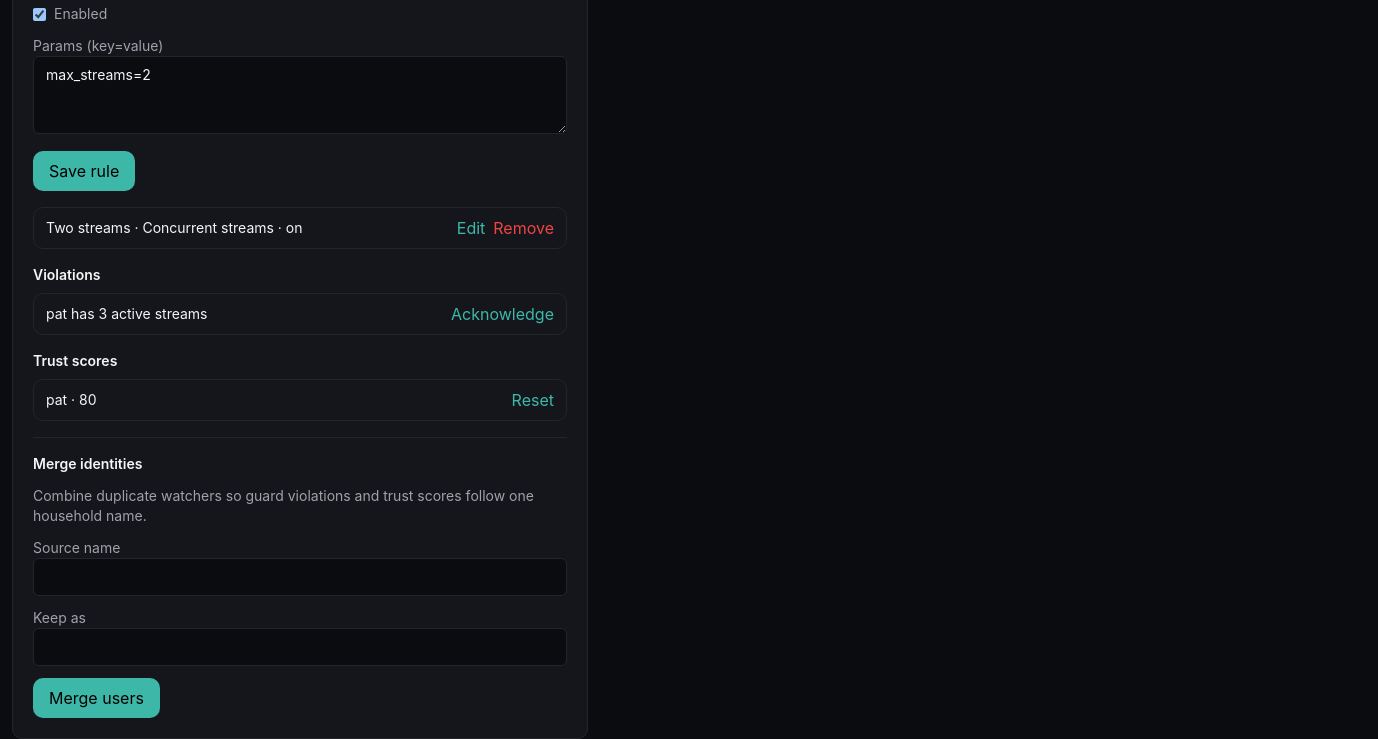
Test: Settings page › merges duplicate playback-guard identities
(page scrolled)
Check: the form with test id "guard-merge-form" is shown, box [33,437,567,718]
Type "pat-tv" into the field named "Guard merge source".
click(300, 577); type("pat-tv")  # box [33,558,567,596]
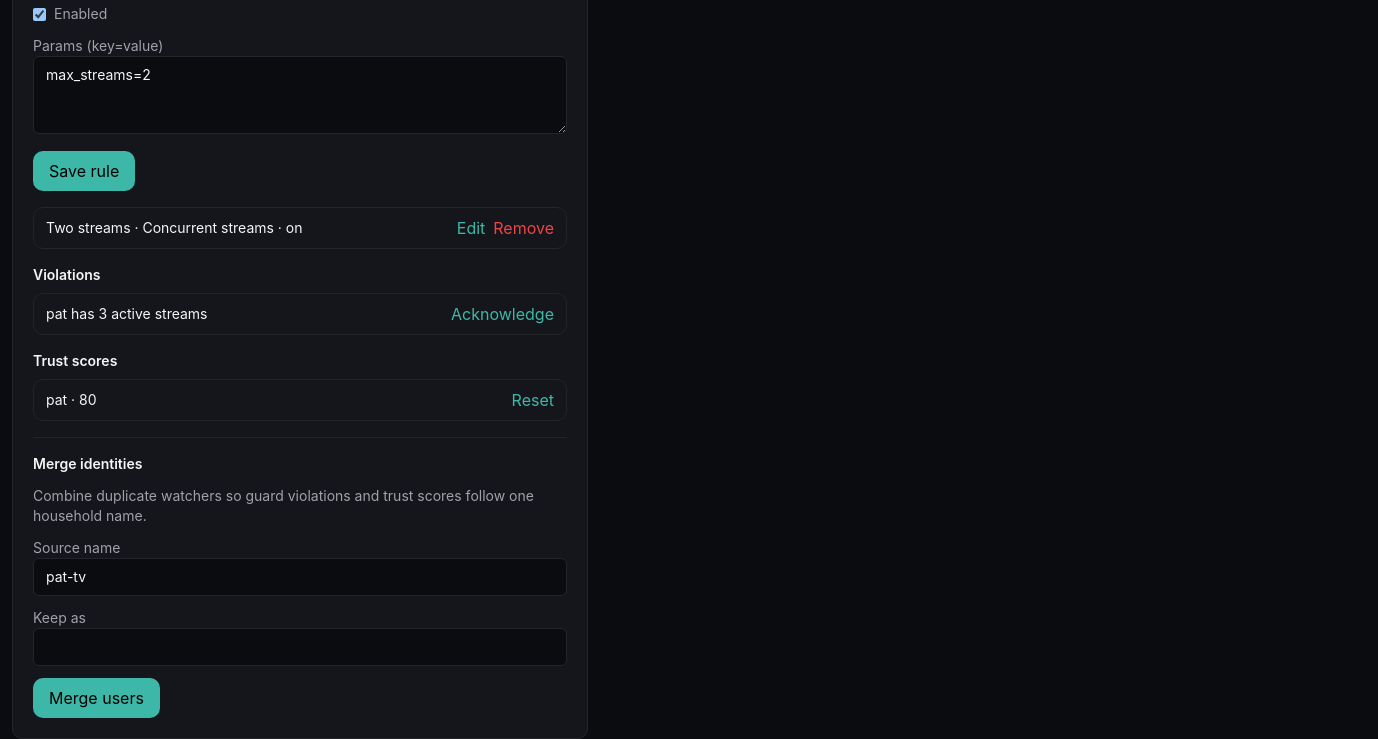
Type "pat" into the field named "Guard merge target".
click(300, 647); type("pat")  # box [33,628,567,666]
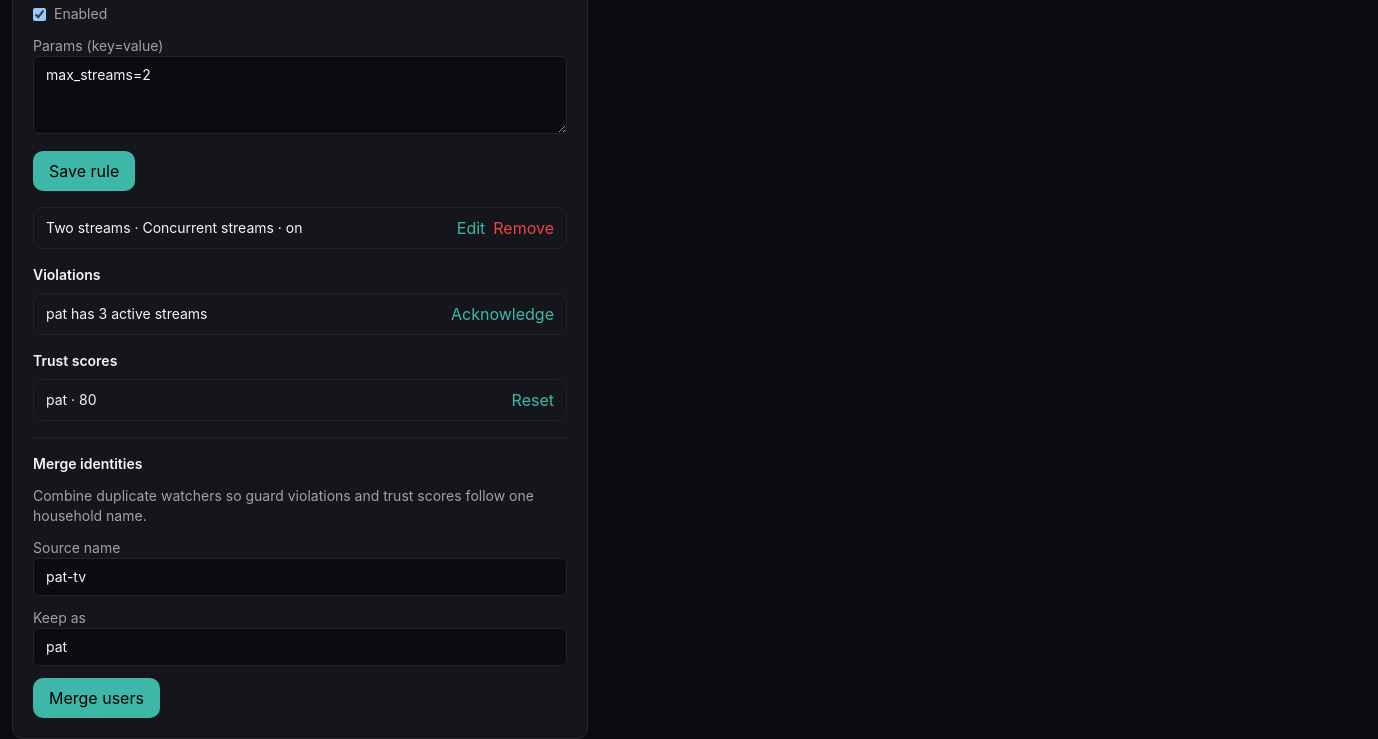
Click the button "Merge users".
click(96, 698)  # box [33,678,160,718]
(page scrolled)
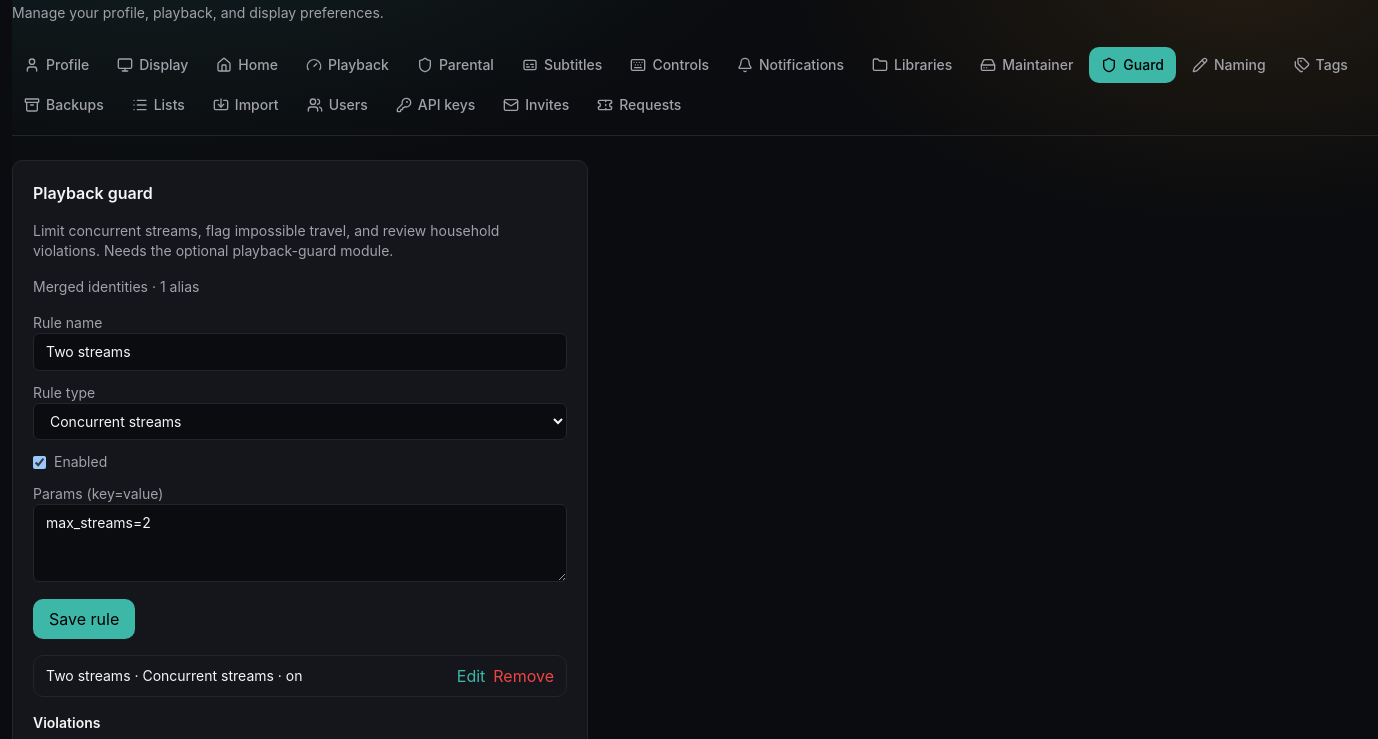
Check: the text with test id "guard-flash" shows "Merged identities", box [33,278,199,295]
